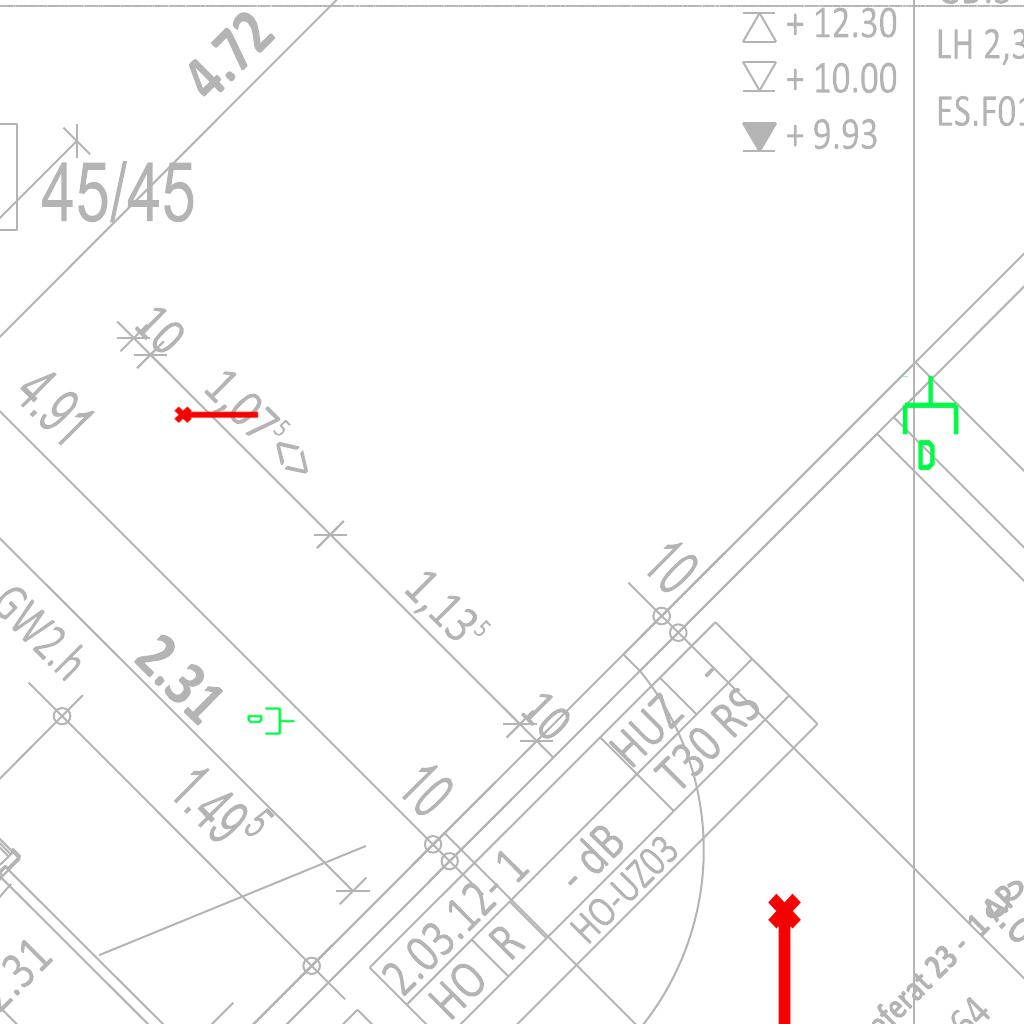ASR_Ansaugoeffnung: (764, 891, 810, 1024), (173, 402, 261, 425)
Datenanschluss_einfach: (898, 373, 967, 473), (246, 705, 296, 739)
